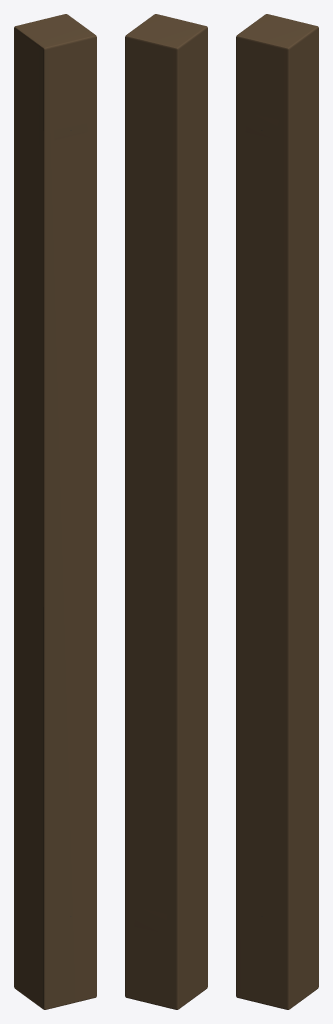
The model's file is door-post-lod0.fbx.
3 views of the same model, side by side, from view 1: azimuth 30°, elevation 25°; view 2: azimuth 150°, elevation 25°; view 3: azimuth 330°, elevation 25° (orthographic).
Visible parts, largest first — view 1: Planed structural upright, Flush decorative shoulder.003; view 2: Planed structural upright, Flush decorative shoulder; view 3: Planed structural upright, Flush decorative shoulder.003.
Boxes of the visible parts, left/top/right/bottom form: Planed structural upright: left=14, top=14, right=96, bottom=1009; Flush decorative shoulder.003: left=54, top=112, right=87, bottom=139; Planed structural upright: left=125, top=14, right=207, bottom=1009; Flush decorative shoulder: left=134, top=906, right=167, bottom=934; Planed structural upright: left=236, top=14, right=318, bottom=1009; Flush decorative shoulder.003: left=245, top=112, right=278, bottom=139.
Size of the model in its own units: 14 by 240 by 14.02.
